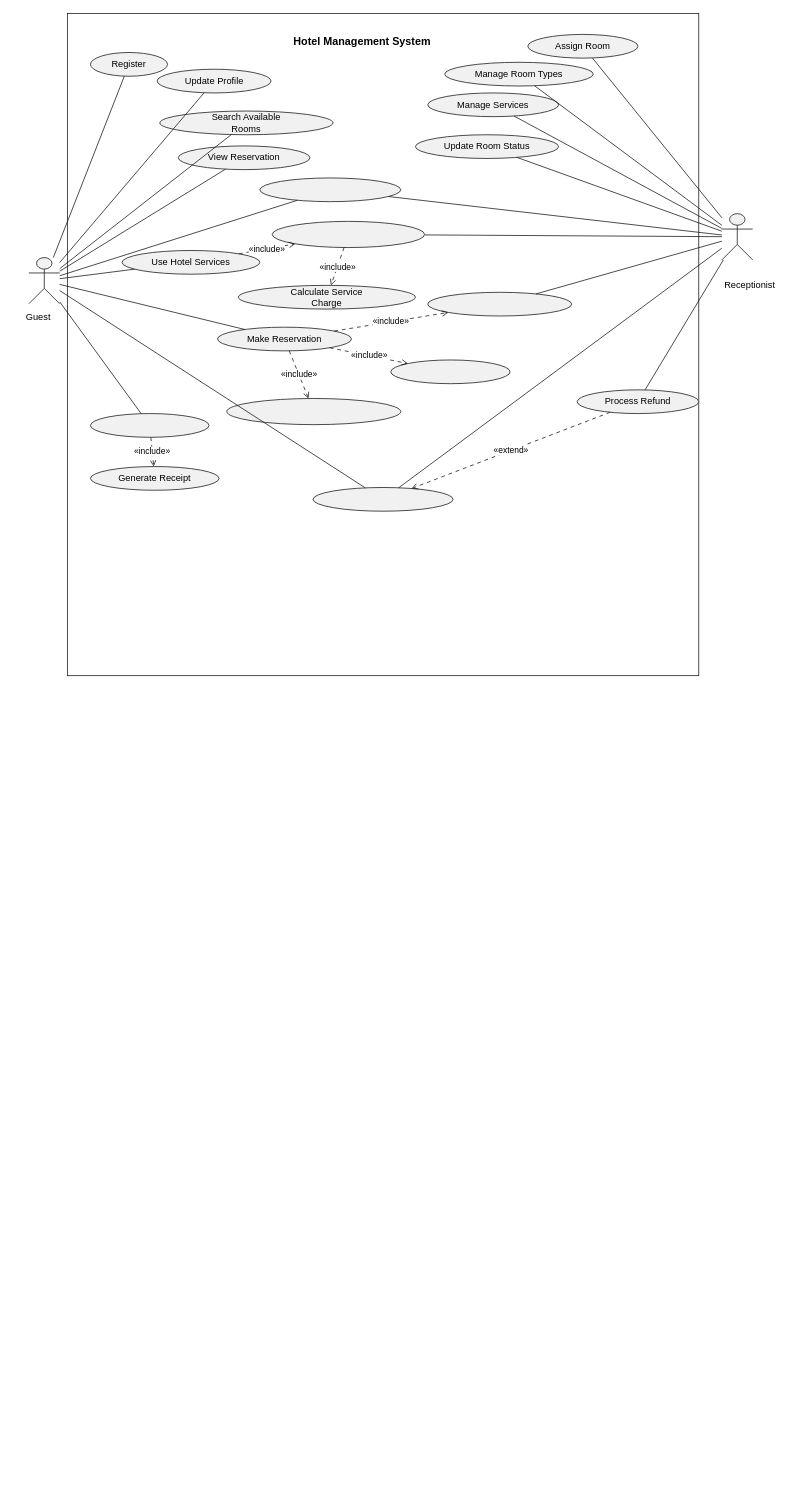
This 790x1502 diagram has some shape labels left out. The centre of each missing label's shape, as x and y in pixels:
"Calculate Total" goes at (450,371).
"Cancel Reservation" goes at (382,499).
"Check Room Availability" goes at (313,411).
"Confirm Reservation" goes at (499,304).
"Make Payment" goes at (149,425).
"Modify Reservation" goes at (330,189).
"Record Service Usage" goes at (348,234).
